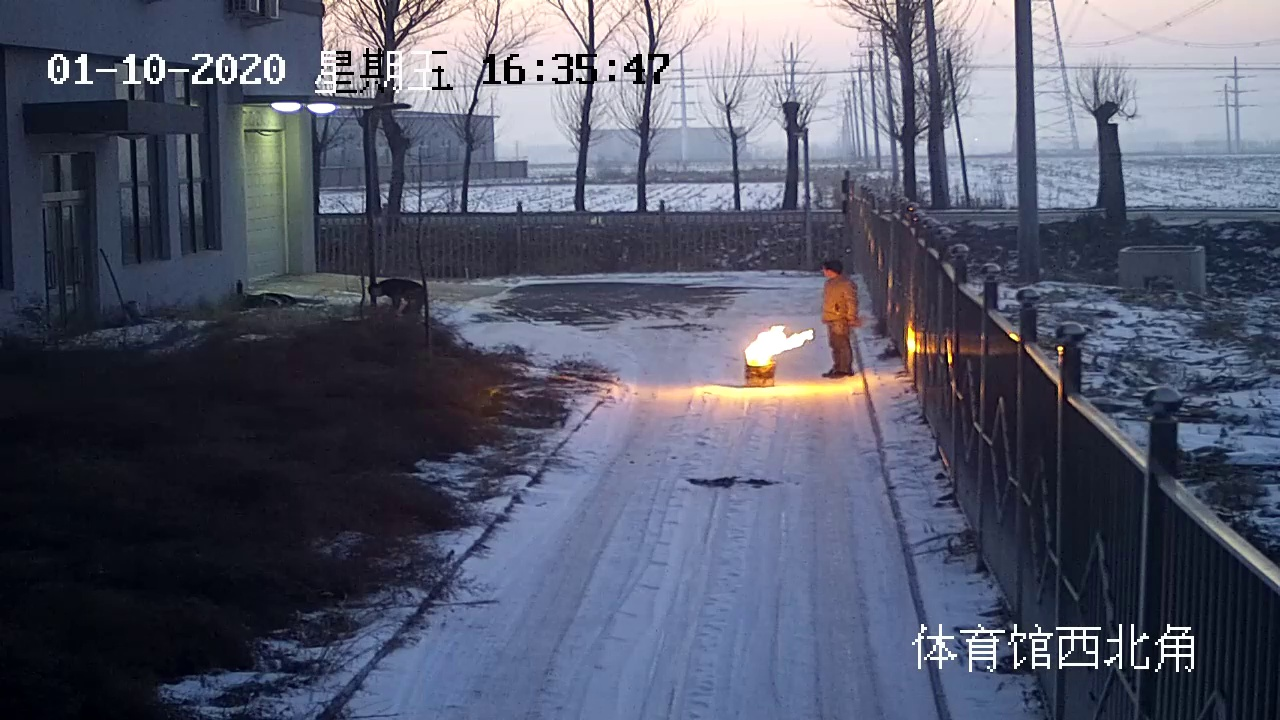fire: (739, 318, 810, 367)
